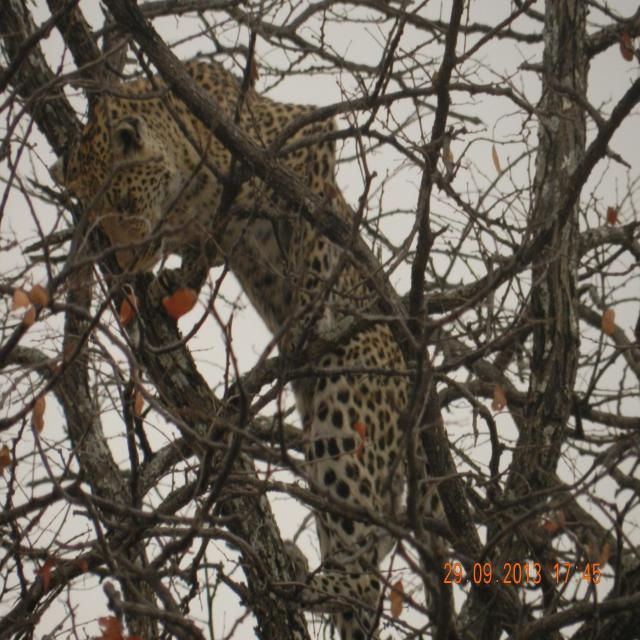Leopard: (57, 62, 519, 615)
